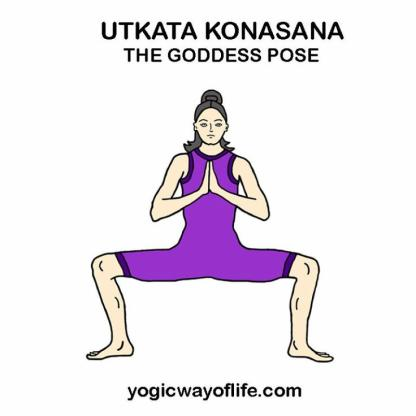godness: (76, 79, 343, 377)
